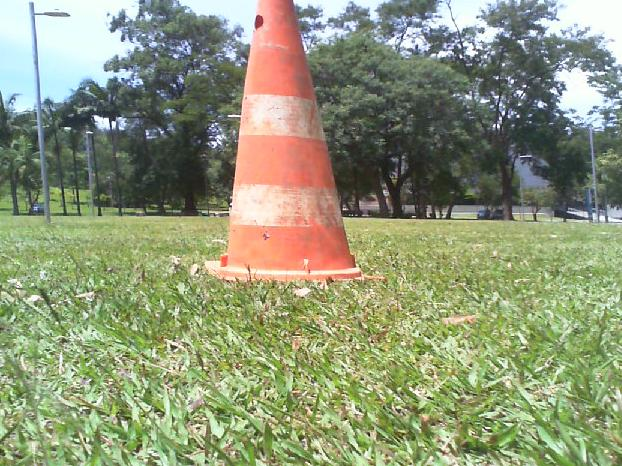0 cone: (205, 0, 362, 280)
